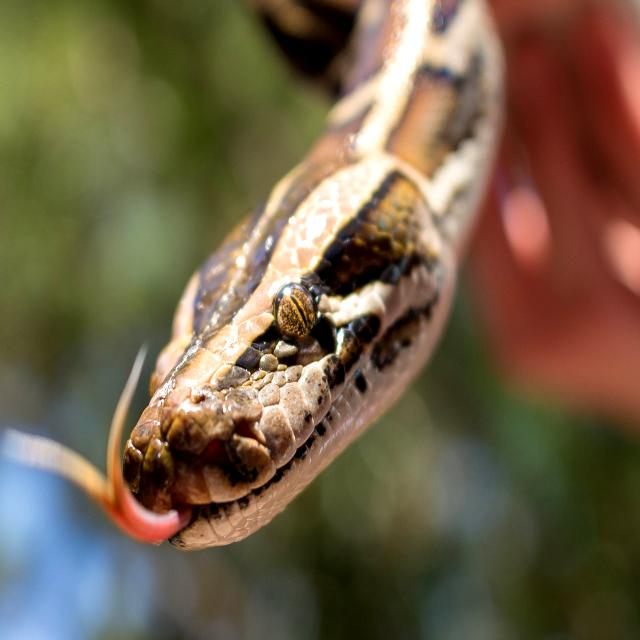Python bivittatus: (6, 0, 502, 549)
